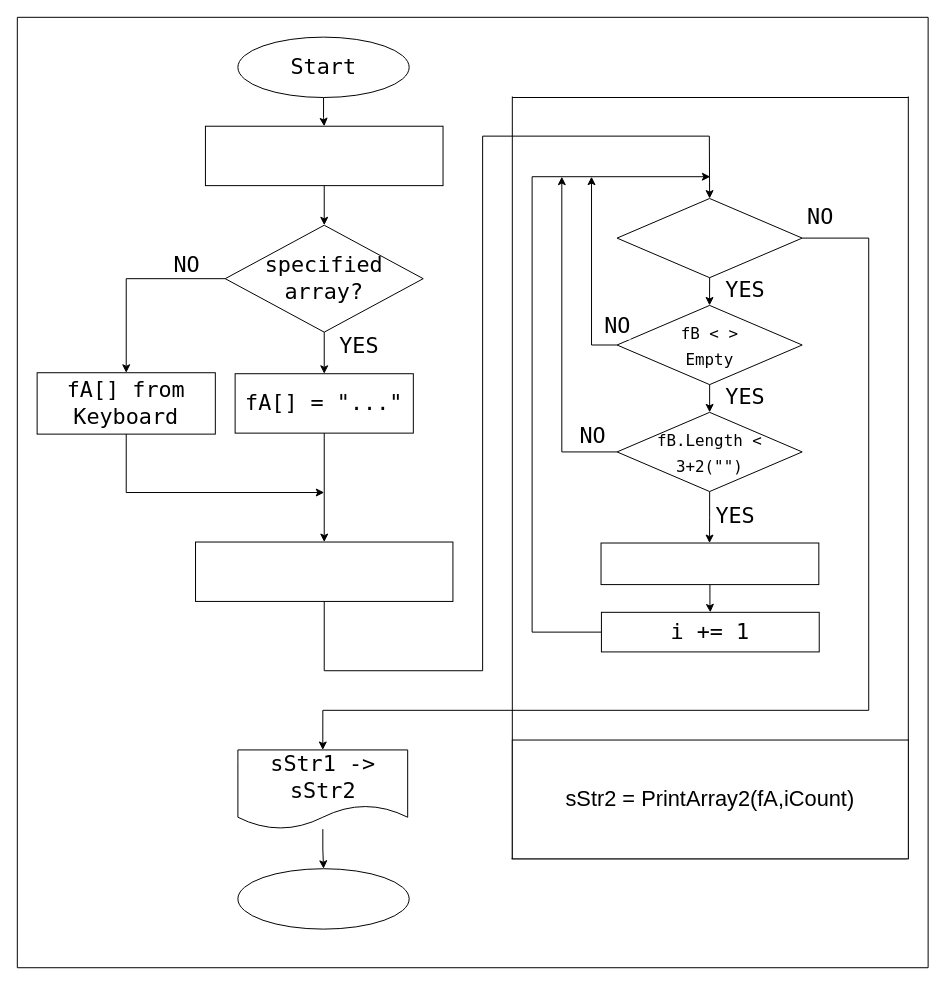
Some shapes in this 946 by 986 pixel diagram are drawn without their labels. The centre of each missing label's shape, as x and y in pixels:
End: (x=323, y=898)
fA = [fN] iCount = 0: (x=323, y=155)
i < fB. GetLength: (x=709, y=238)
sStr += fB[]: (x=709, y=563)
sStr1 = PrintArray1(fA): (x=324, y=571)
